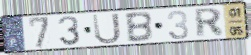3: (166, 9, 191, 41), (57, 16, 82, 47)
7: (27, 15, 51, 50)
B: (123, 10, 155, 43)
R: (193, 7, 226, 40)
U: (91, 12, 123, 45)
